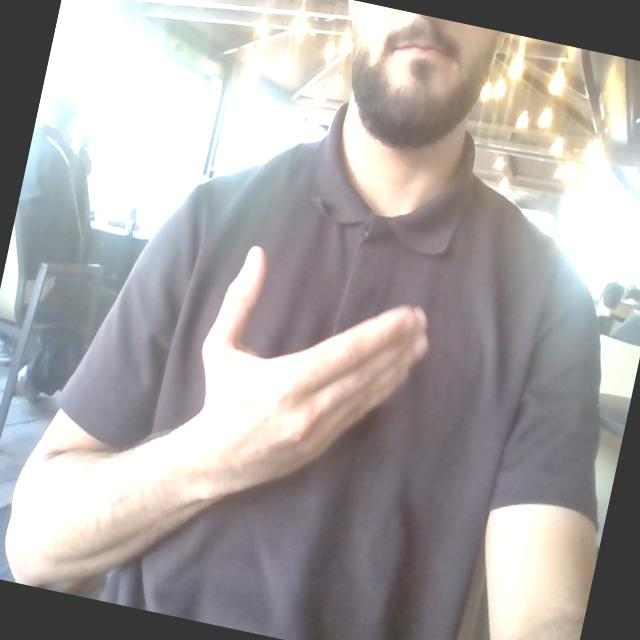Hand: (190, 248, 426, 494)
